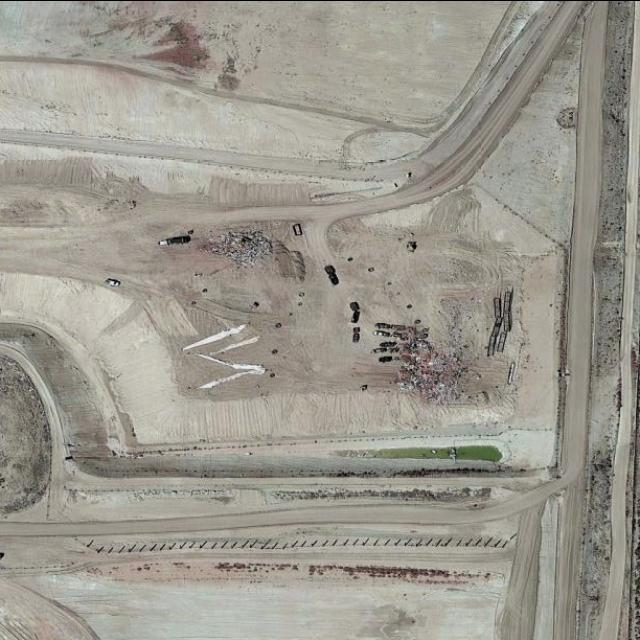dump_site: (390, 318, 470, 407), (194, 231, 274, 273)
